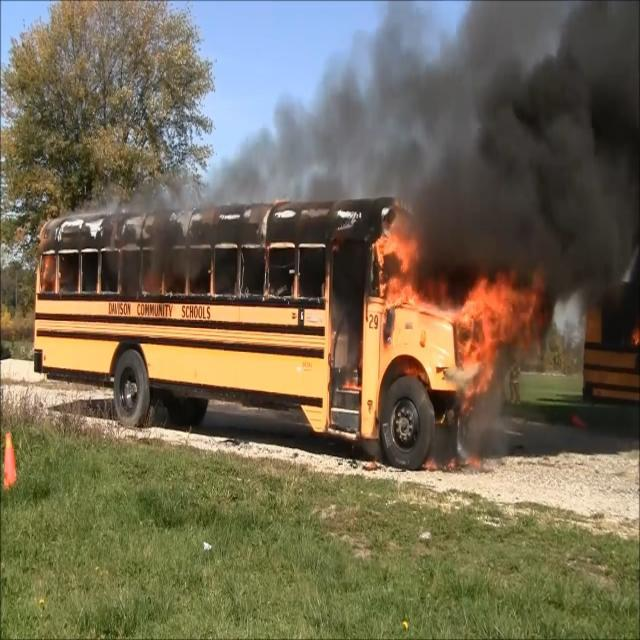Fire: (452, 271, 544, 369), (384, 224, 421, 296)
Smoke: (439, 38, 640, 258)
